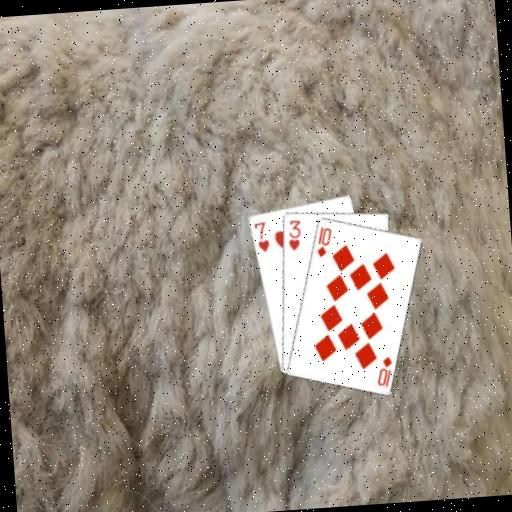10D: (373, 353, 395, 389), (313, 223, 335, 258)
3H: (284, 217, 303, 253)
7H: (251, 218, 271, 254)
